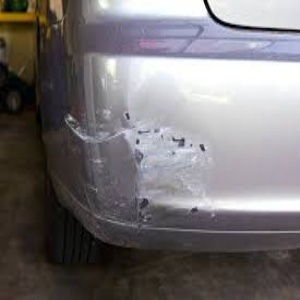bumper: (50, 104, 216, 246)
